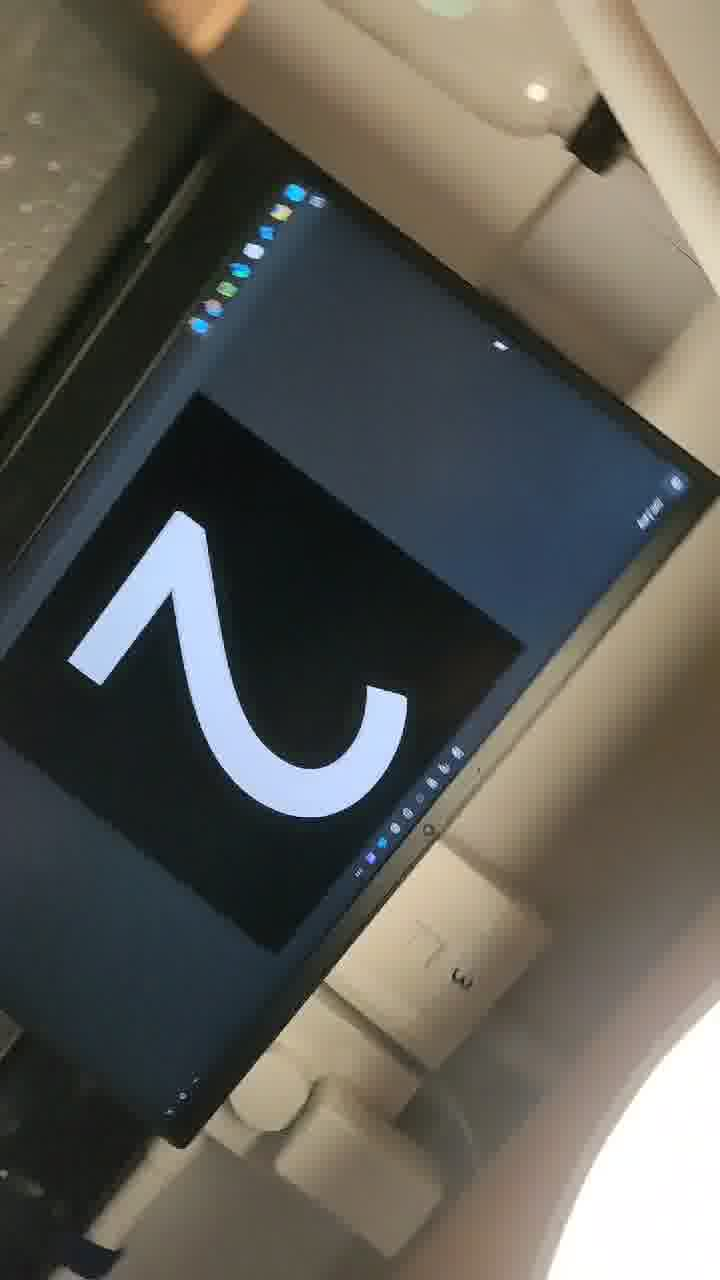two: (60, 439, 528, 921)
